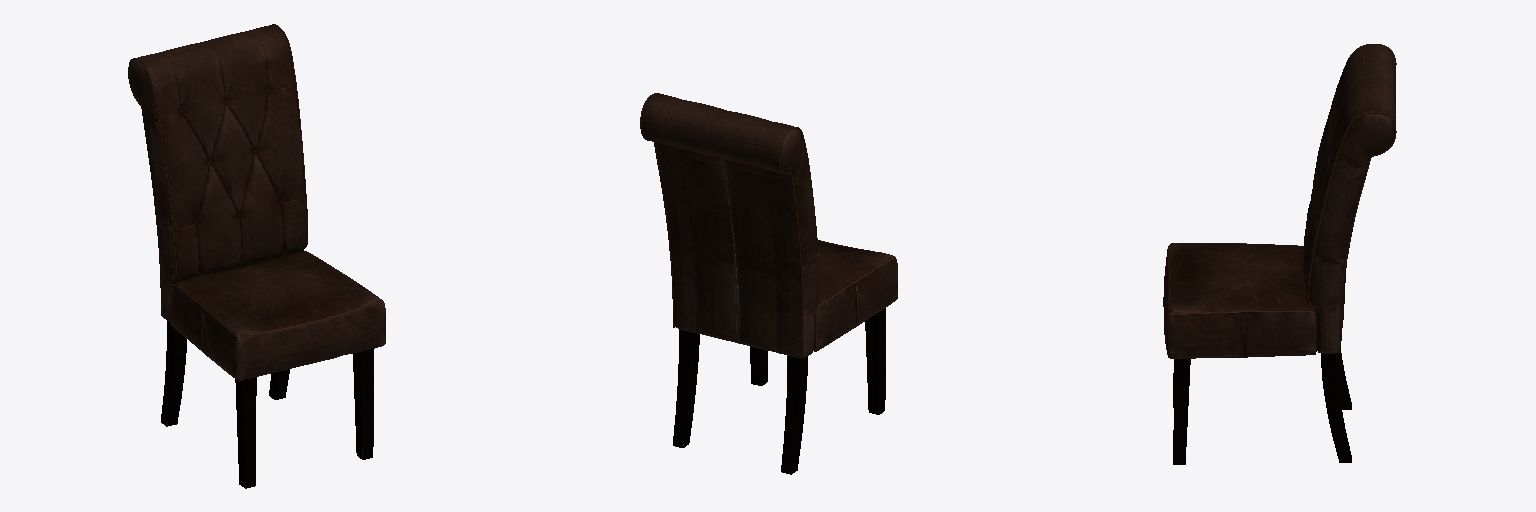
The picture shows the model from 3 angles: view 1: azimuth 30°, elevation 25°; view 2: azimuth 150°, elevation 25°; view 3: azimuth 270°, elevation 25°; orthographic projection.
Parts seen in each view (by area): view 1: dining_chair_02; view 2: dining_chair_02; view 3: dining_chair_02.
Part boxes in pixels (x1,y1,x2,y2): dining_chair_02: (128,24,385,488); dining_chair_02: (640,93,897,474); dining_chair_02: (1163,44,1396,464).
Size of the model in its own units: 0.4336 by 0.9734 by 0.5764.
Materials: 1 (1 with a texture image).